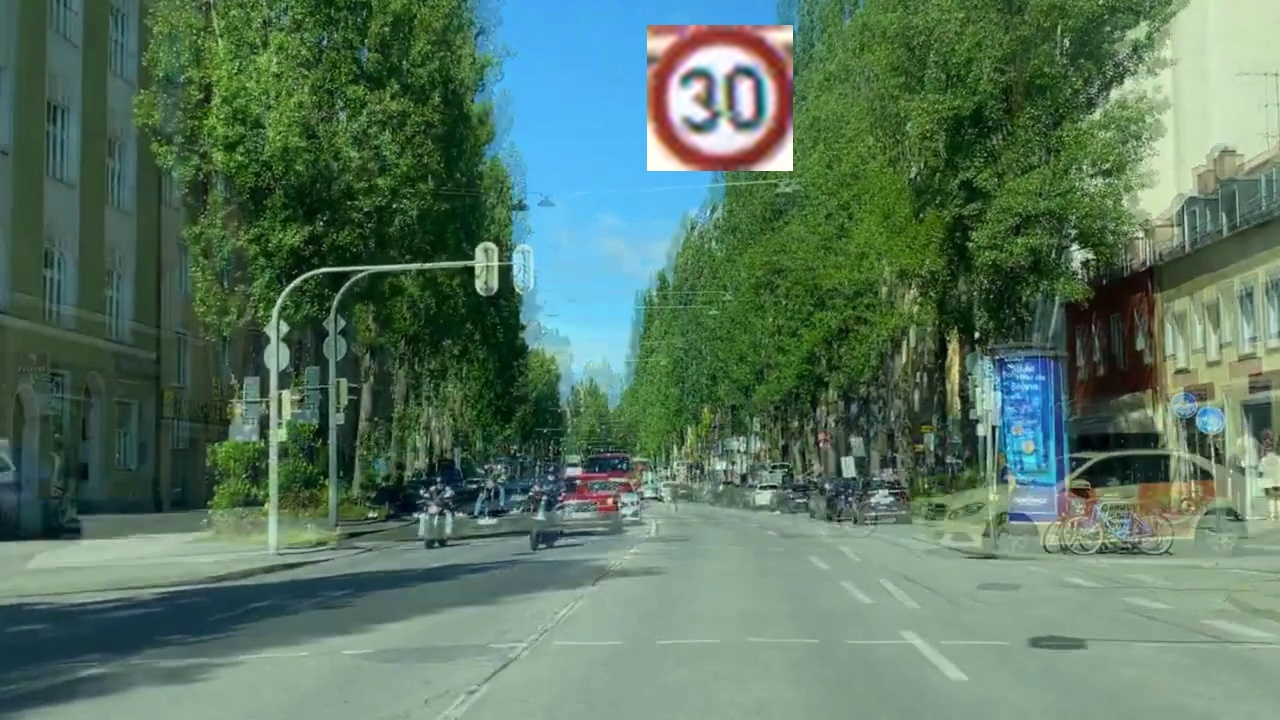Speed 30: (647, 25, 793, 171)
